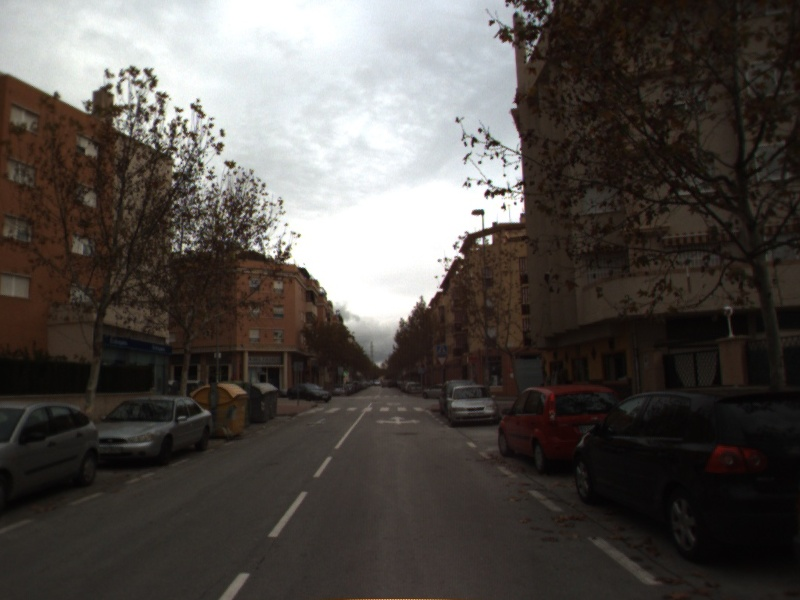STRAIGHT_LEFT_RIGHT: (374, 413, 423, 427)
